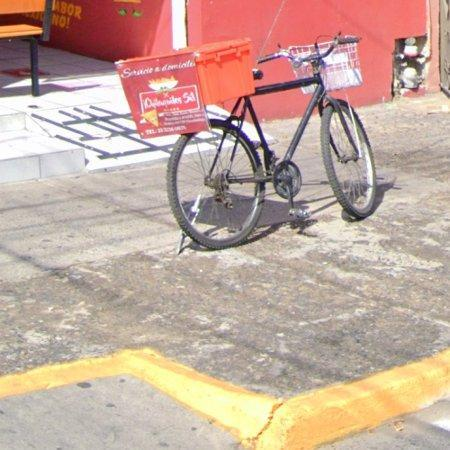bicycles: (167, 35, 376, 249)
